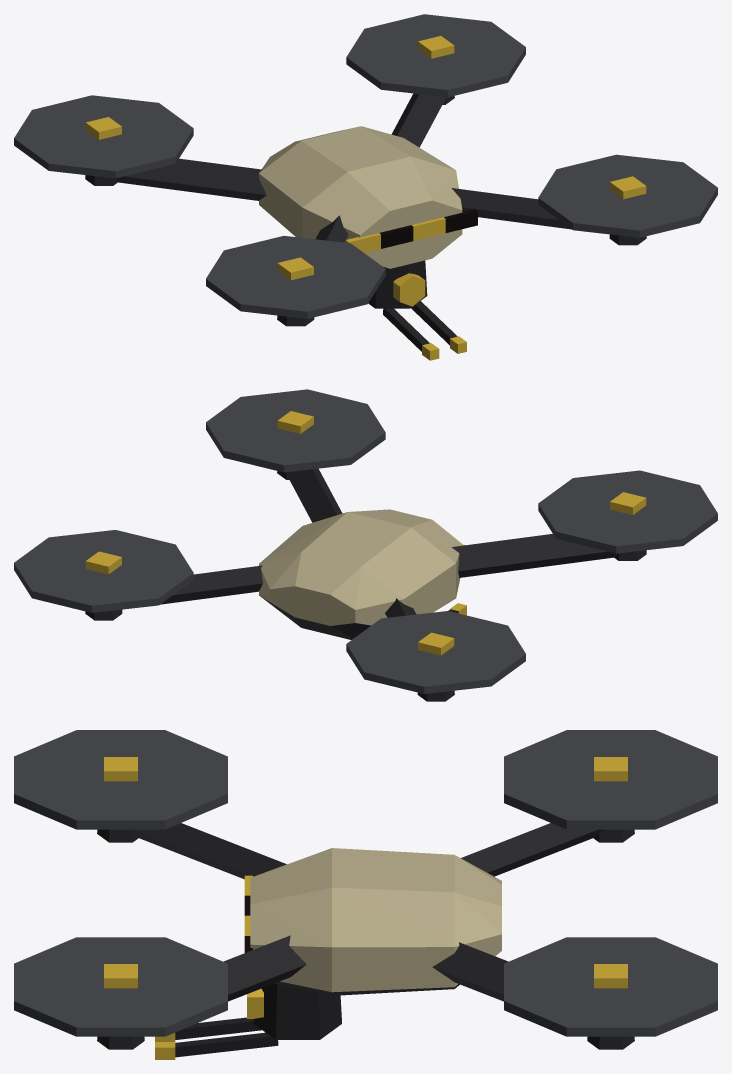
File: ai_drone.glb
3 views of the same model, one above another, from view 1: azimuth 30°, elevation 25°; view 2: azimuth 150°, elevation 25°; view 3: azimuth 270°, elevation 25° (orthographic). The views are drawn at different scales.
Visible parts, largest first — view 1: body, blade_fl, blade_bl, blade_br, blade_fr, rotor_br, head, rotor_fl, rotor_bl, rotor_fr; view 2: body, blade_fl, blade_fr, blade_bl, blade_br, rotor_fr, rotor_bl, rotor_fl, rotor_br; view 3: body, blade_fl, blade_bl, blade_fr, blade_br, head, rotor_fr, rotor_br, rotor_fl, rotor_bl.
Boxes of the visible parts, x1,y1,x2,y2 form: body: (259,126,477,268); blade_fl: (538,154,717,237); blade_bl: (346,14,525,97); blade_br: (14,95,193,178); blade_fr: (206,236,385,318); rotor_br: (85,158,266,200); head: (368,260,466,360); rotor_fl: (452,188,646,245); rotor_bl: (391,93,454,147); rotor_fr: (277,215,348,326); body: (259,509,465,639); blade_fl: (206,389,385,472); blade_fr: (538,470,717,553); blade_bl: (14,530,193,612); blade_br: (346,611,525,693); rotor_fr: (451,534,646,577); rotor_bl: (85,565,262,620); rotor_fl: (277,468,342,522); rotor_br: (385,598,454,701); body: (244,848,501,995); blade_fl: (14,937,227,1036); blade_bl: (504,937,717,1036); blade_fr: (14,730,227,829); blade_br: (504,730,717,829); head: (155,983,341,1059); rotor_fr: (97,823,286,879); rotor_br: (461,823,634,876); rotor_fl: (97,935,306,1049); rotor_bl: (432,942,634,1049).
Size of the model in its own units: 1.03 by 0.293 by 1.03.
